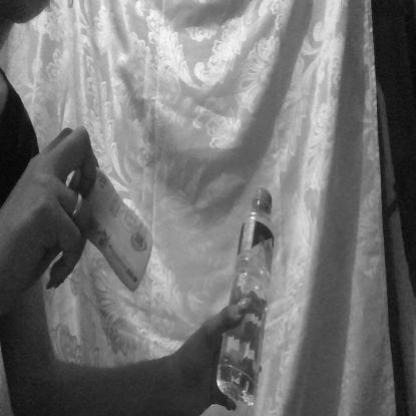Plastic Bottle: (198, 130, 295, 416)
